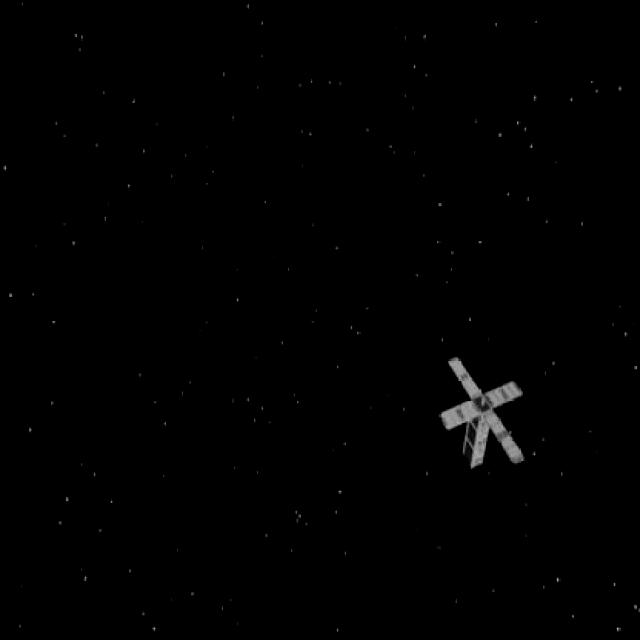medium_debris: (431, 346, 531, 473)
